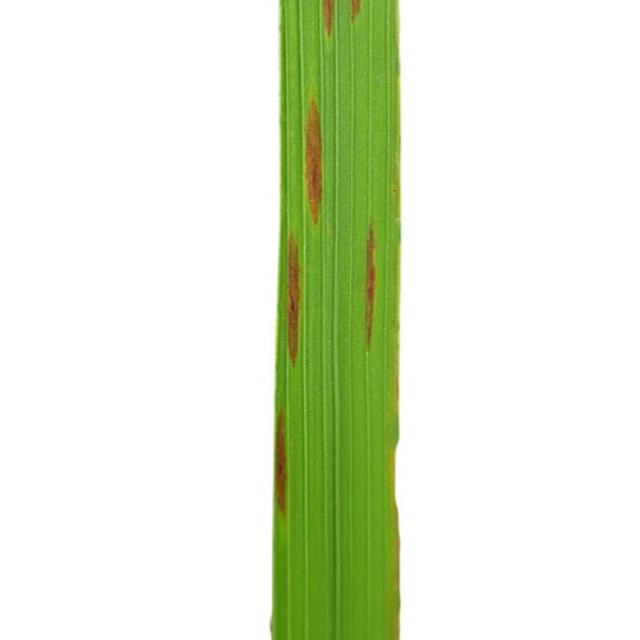Narrow brown: (266, 0, 404, 640)
